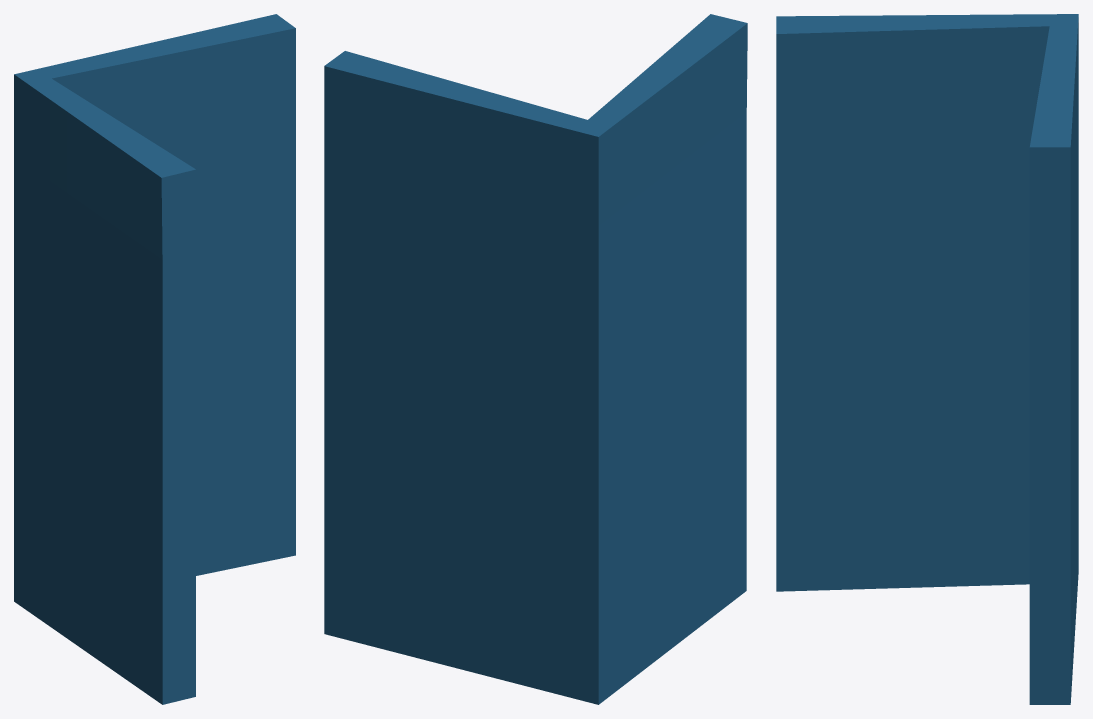
Rendered from Wall3_Middel_Cornor.fbx.
3 views of the same model, side by side, from view 1: azimuth 30°, elevation 25°; view 2: azimuth 150°, elevation 25°; view 3: azimuth 270°, elevation 25° (orthographic). The views are drawn at different scales.
Parts seen in each view (by area): view 1: Wall001_Mid_Cornor; view 2: Wall001_Mid_Cornor; view 3: Wall001_Mid_Cornor.
Boxes of the visible parts, bbox=[...] form: Wall001_Mid_Cornor: bbox=[14, 14, 295, 704]; Wall001_Mid_Cornor: bbox=[324, 14, 747, 704]; Wall001_Mid_Cornor: bbox=[776, 14, 1078, 704].
Bounding box in the file's own units: 60.61 × 118 × 58.05.
